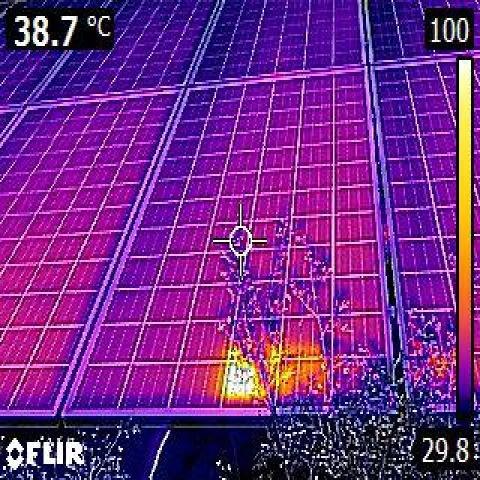fault: (230, 363, 252, 397)
